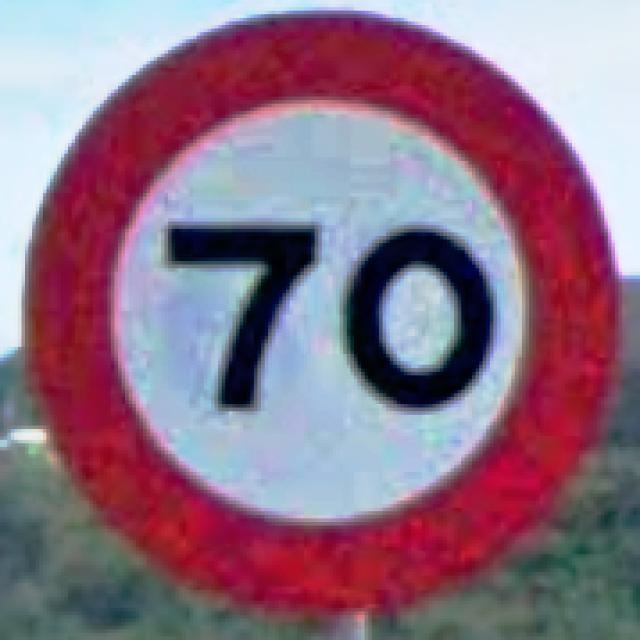max70: (18, 4, 626, 622)
